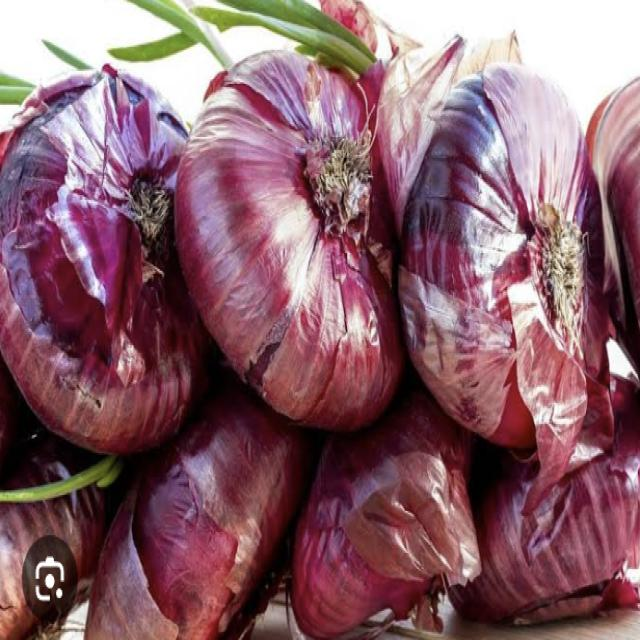sprouting: (0, 37, 614, 638), (109, 0, 372, 68)
